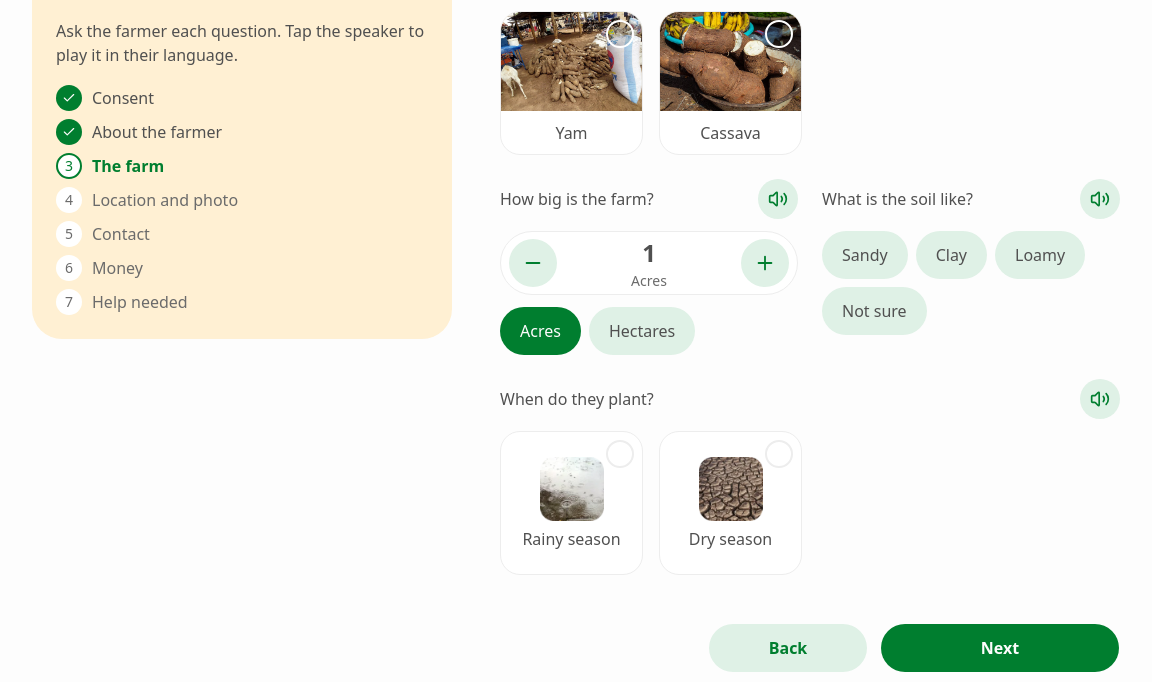
Test: registering a farmer › Back goes to the step before
The width and height of the screenshot is (1152, 682).
(page scrolled)
Click the button "Back".
click(788, 648)  # box [708, 623, 868, 673]
(page scrolled)
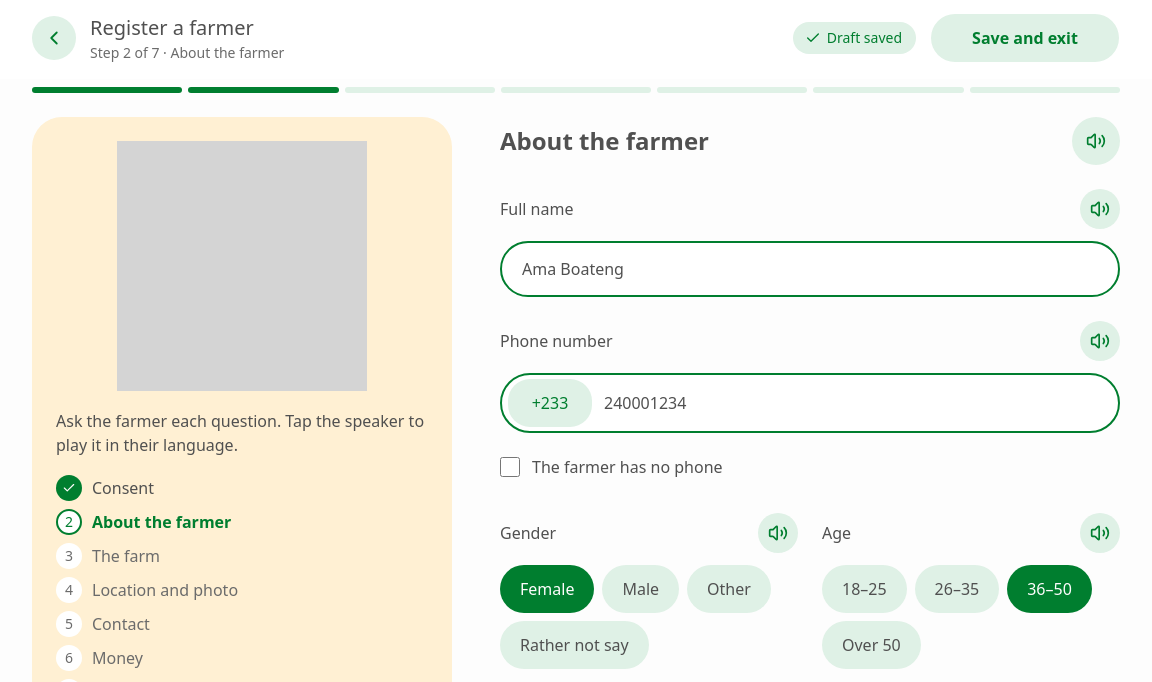
Expected: the heading "About the farmer" is shown, [500, 123, 709, 159]
